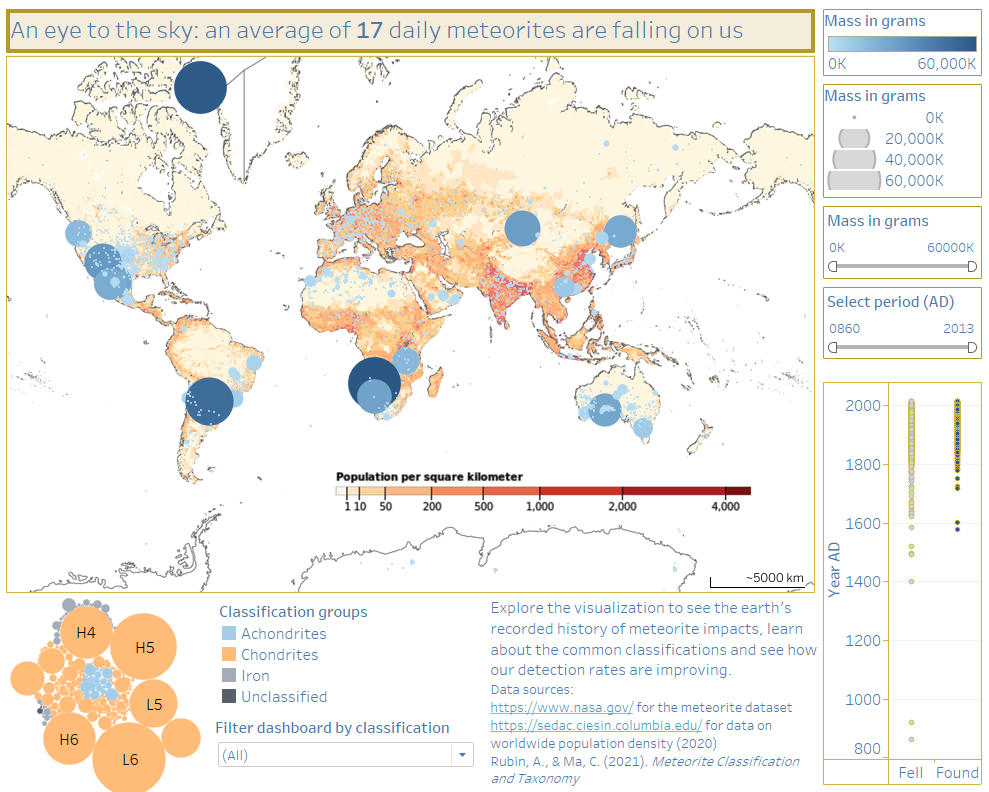

The page's visual inventory and layout, read from the dashboard file:
{"tool":"tableau","page":{"name":"Meteorite Landings Dashboard","canvas":[1000,800],"ordinal":0},"visuals":[{"type":"worksheet","title":"Meteorite landings","mark":"Automatic","rows":["latitude"],"cols":["longitude"],"box":[8,8,817,592]},{"type":"legend","title":"Meteorite landings","param":"[federated.07urgwx1b711jf13rdpli0s5h627].[sum:mass:qk]","box":[825,8,167,75]},{"type":"legend","title":"Meteorite landings","param":"[federated.07urgwx1b711jf13rdpli0s5h627].[sum:mass:qk]","box":[825,83,167,122]},{"type":"filter","title":"Meteorite landings","param":"[federated.07urgwx1b711jf13rdpli0s5h627].[none:mass:qk]","box":[825,205,167,81]},{"type":"text","box":[491,249,100,30]},{"type":"filter","title":"Meteorite landings","param":"[federated.07urgwx1b711jf13rdpli0s5h627].[tyr:Year fell or found (copy)_25121642","box":[825,286,167,80]},{"type":"worksheet","title":"Yearly trend variant","mark":"Circle","rows":["year fell or found"],"cols":["detection method"],"box":[825,366,167,426]},{"type":"image","param":"Image/density_legend.png","box":[332,461,440,88]},{"type":"worksheet","title":"Meteorite composition classification","mark":"Circle","box":[12,585,276,214]},{"type":"legend","title":"Meteorite composition classification","param":"[federated.07urgwx1b711jf13rdpli0s5h627].[Recommended Classification (group)]","box":[225,604,180,135]},{"type":"filter","title":"Meteorite composition classification","param":"[federated.07urgwx1b711jf13rdpli0s5h627].[Recommended Classification (group)]","box":[221,720,262,76]}]}

Visuals, with their boxes in screenshot pixels (x1, y1, x2, y2), scaled from the page's 1000x800 canvas onto the 989x792 screenshot:
"Meteorite landings" worksheet: crop(8, 8, 816, 594)
"Meteorite landings" legend: crop(816, 8, 981, 82)
"Meteorite landings" legend: crop(816, 82, 981, 203)
"Meteorite landings" filter: crop(816, 203, 981, 283)
text: crop(486, 247, 584, 276)
"Meteorite landings" filter: crop(816, 283, 981, 362)
"Yearly trend variant" worksheet (Circle marks): crop(816, 362, 981, 784)
image: crop(328, 456, 764, 544)
"Meteorite composition classification" worksheet (Circle marks): crop(12, 579, 285, 791)
"Meteorite composition classification" legend: crop(223, 598, 401, 732)
"Meteorite composition classification" filter: crop(219, 713, 478, 788)
